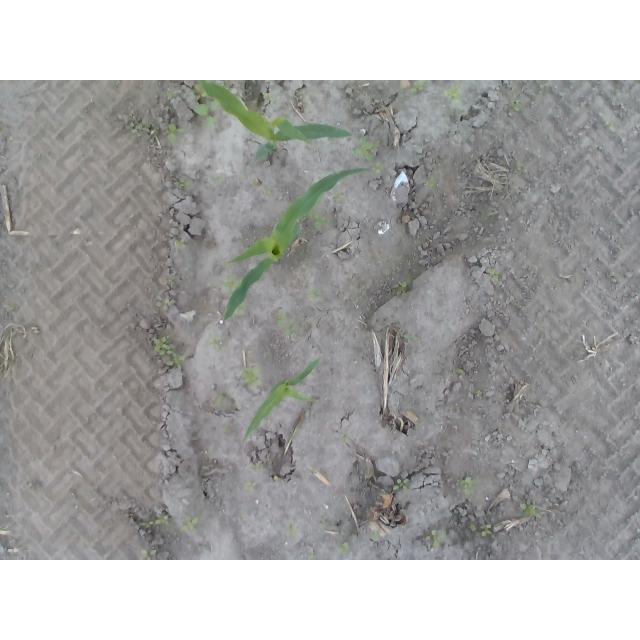Maize: (223, 166, 371, 323), (200, 81, 352, 164), (244, 357, 320, 442)
Weeds: (153, 332, 182, 364), (191, 92, 217, 124), (274, 308, 296, 337), (352, 134, 376, 160), (138, 512, 170, 531), (168, 121, 189, 145), (432, 528, 447, 552), (313, 211, 332, 229), (239, 367, 257, 386), (524, 502, 544, 519), (391, 476, 410, 493), (180, 516, 199, 533), (464, 476, 479, 496), (172, 176, 193, 189), (128, 118, 145, 134), (210, 335, 225, 353), (410, 81, 427, 96), (447, 85, 462, 99), (308, 289, 323, 303), (141, 548, 160, 559), (395, 280, 408, 296), (422, 178, 438, 191), (479, 524, 494, 537), (488, 267, 501, 281), (510, 98, 522, 113), (209, 173, 224, 185), (160, 296, 170, 313), (244, 481, 257, 494), (224, 278, 240, 288), (399, 335, 418, 343), (217, 393, 227, 408), (369, 531, 381, 543), (175, 240, 188, 249), (471, 387, 482, 397), (375, 163, 385, 174), (340, 542, 349, 554)
